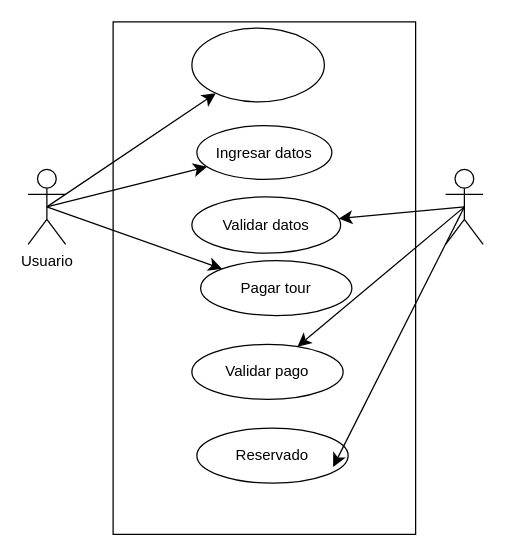
The diagram is 513 pixels wide and 556 high, and some of its shapes have lost their labels. Each missing label, with the box of its shape:
Reservar Tour: (191, 27, 324, 102)
Sistema: (444, 168, 483, 244)
